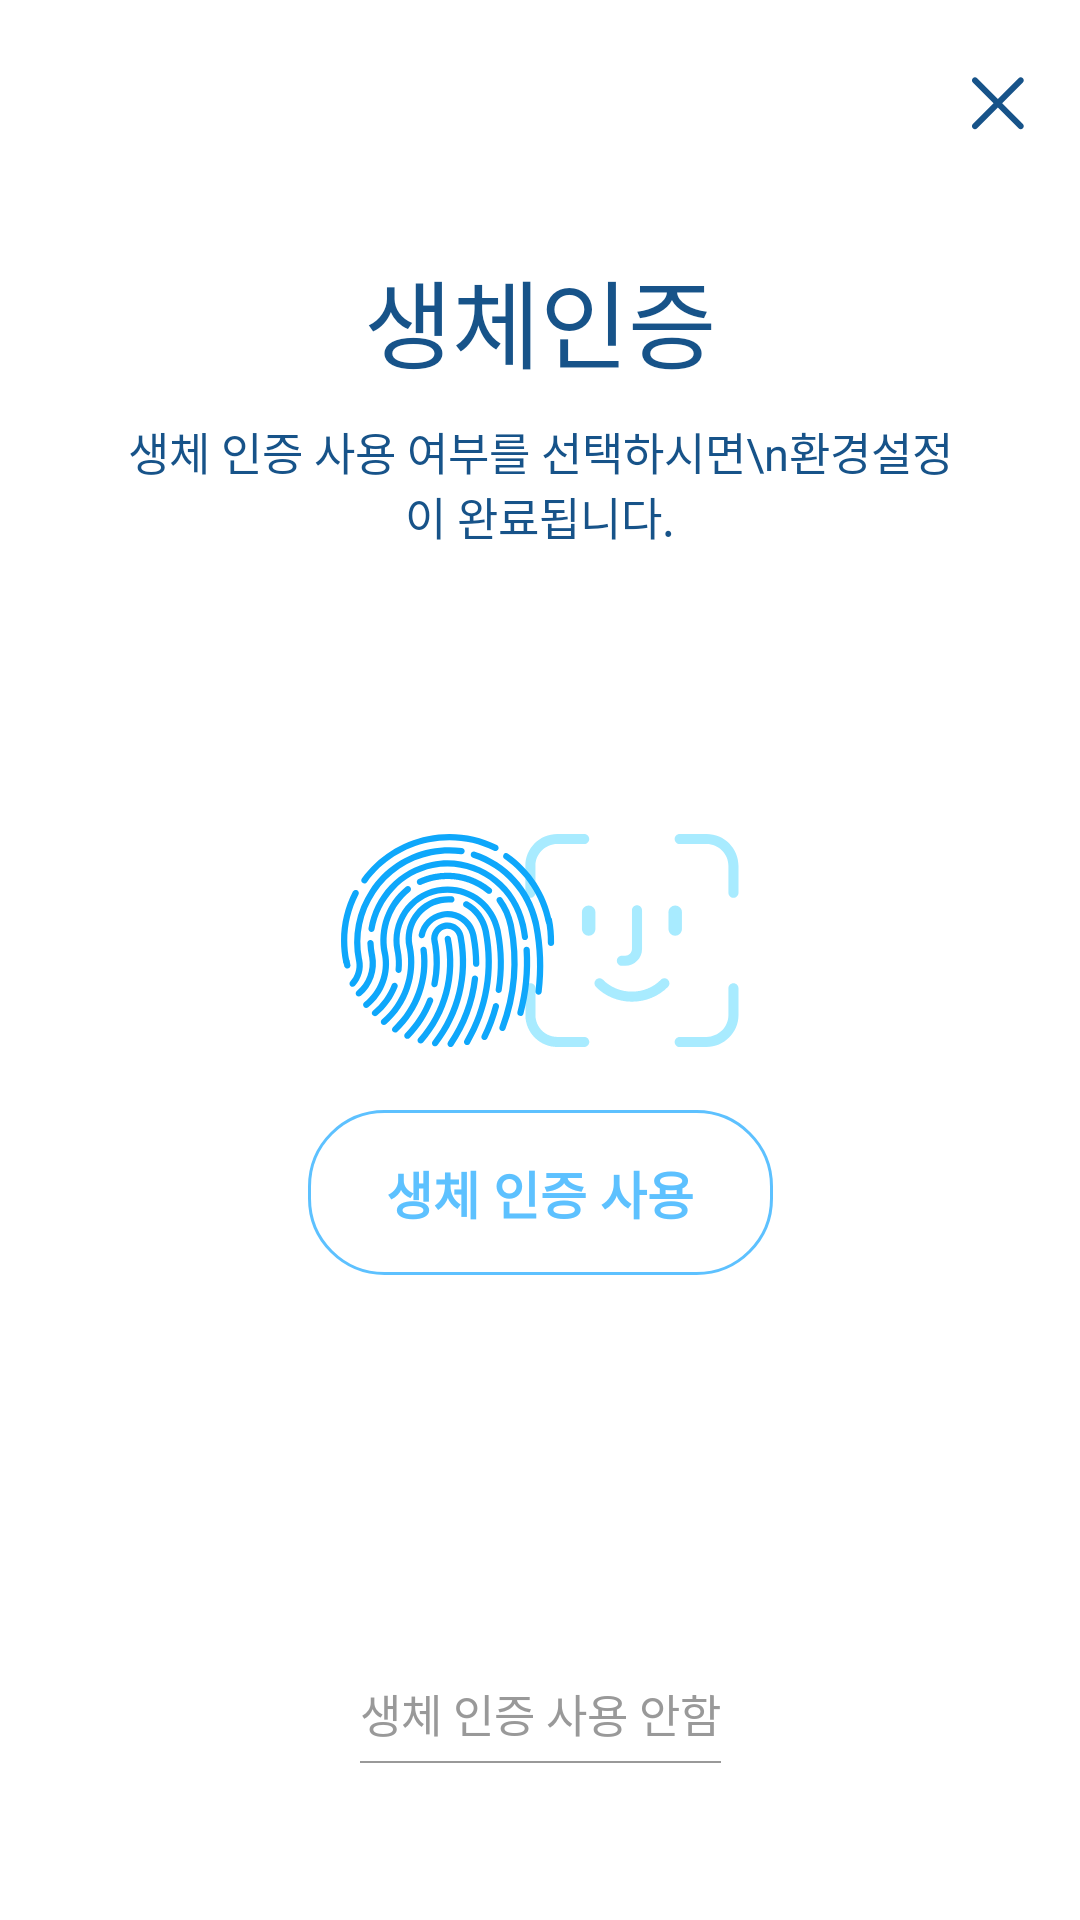

Where to tap for icons on this 1080*1920 app screen, as (x=x, y=y):
close but: (x=998, y=103)
